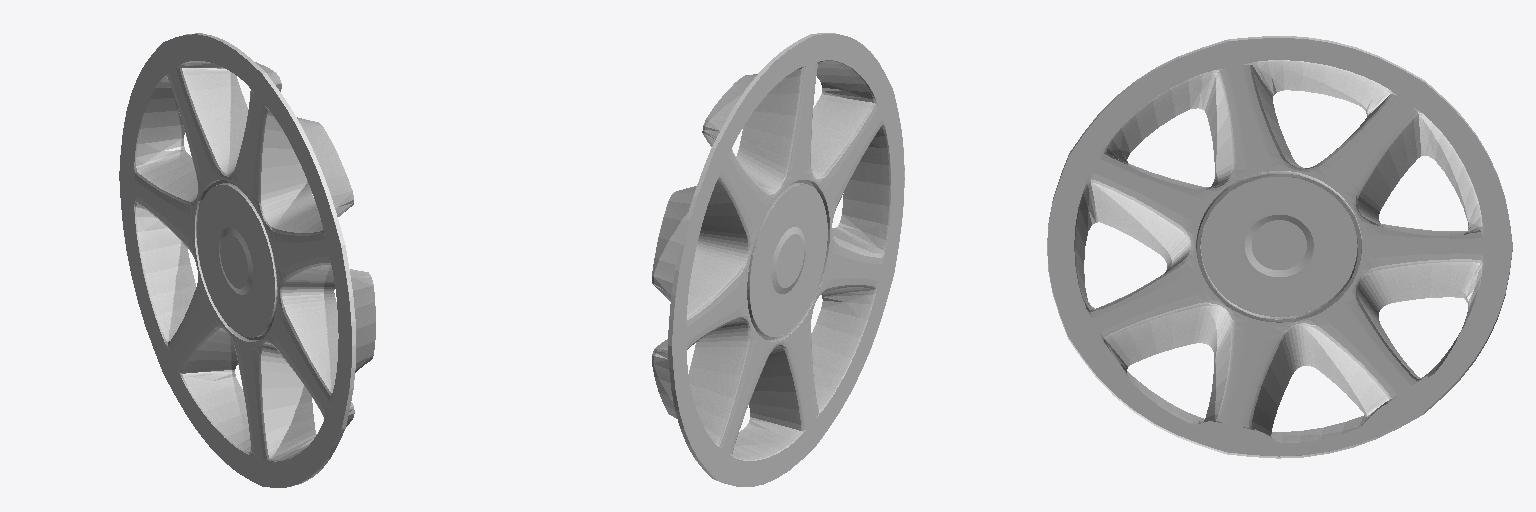
3 views of the same model, side by side, from view 1: azimuth 30°, elevation 25°; view 2: azimuth 150°, elevation 25°; view 3: azimuth 270°, elevation 25° (orthographic).
Parts seen in each view (by area): view 1: rim_Mesh; view 2: rim_Mesh; view 3: rim_Mesh.
Boxes of the visible parts, x1=… form: rim_Mesh: x1=119, y1=33, x2=375, y2=487; rim_Mesh: x1=652, y1=33, x2=904, y2=486; rim_Mesh: x1=1047, y1=36, x2=1512, y2=458.
Size of the model in its own units: 29.91 by 273 by 274.
Materials: 1 (1 with a texture image).